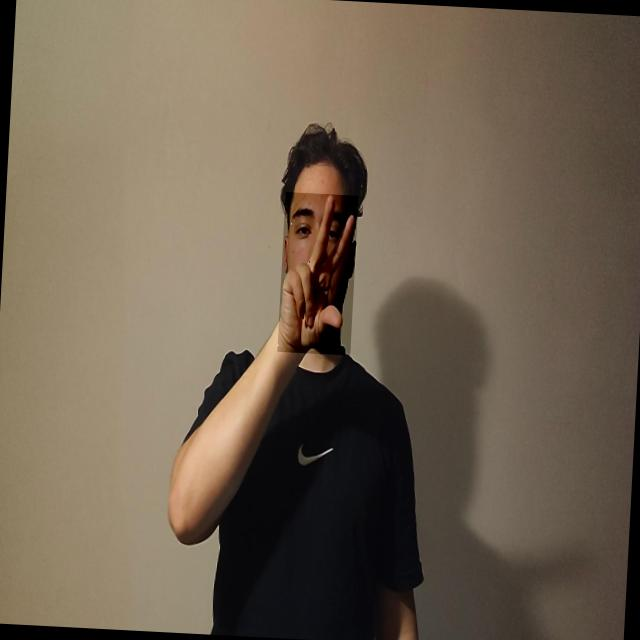no: (278, 192, 358, 356)
